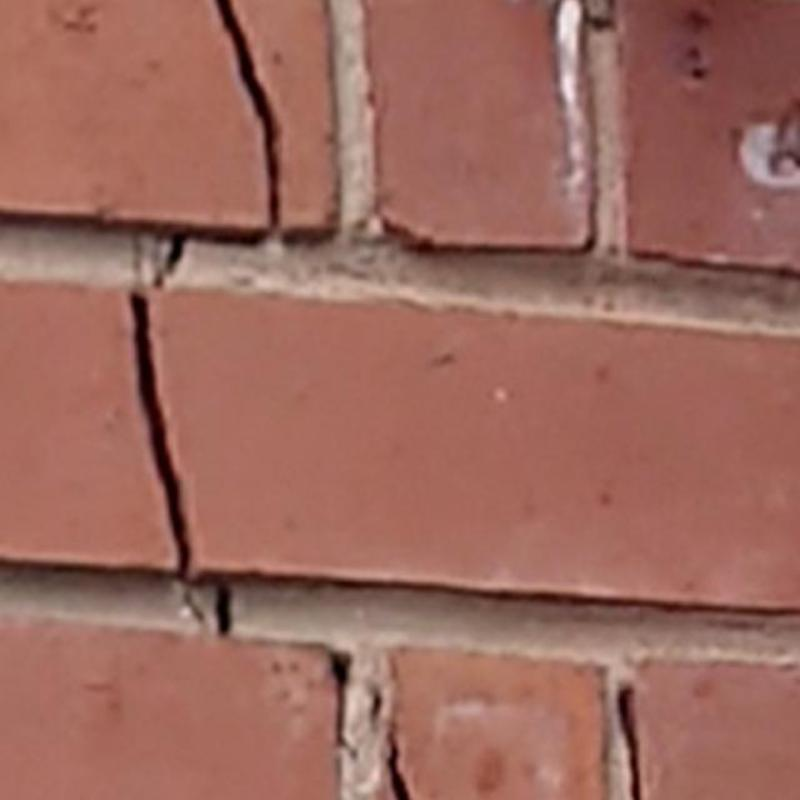crack: (130, 292, 188, 574), (213, 0, 273, 224), (365, 678, 408, 799), (330, 652, 356, 759), (617, 684, 641, 799), (155, 234, 184, 287), (181, 582, 208, 629), (217, 584, 231, 635), (132, 233, 142, 292), (582, 14, 615, 29), (152, 235, 161, 270)
